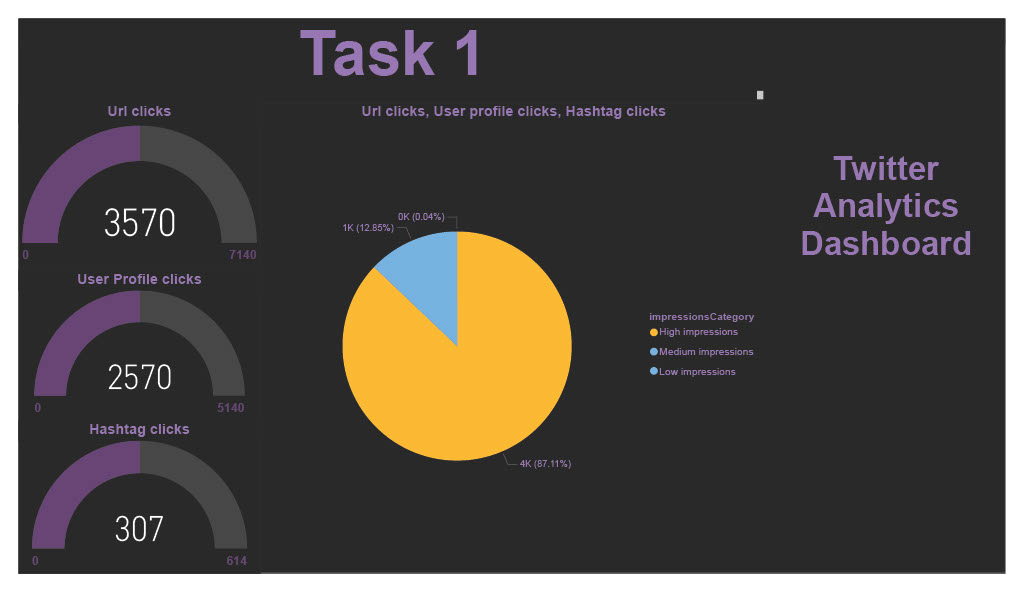

Layout of this report page (visuals, bound fields, positions):
{"tool":"powerbi","page":{"name":"Task 1","canvas":[1280,720],"ordinal":0},"visuals":[{"type":"gauge","title":"Url clicks","fields":{"Y":["Sum(SocialMedia (1).url clicks)"]},"box":[0,109.6,313.7,217.3],"z":0},{"type":"gauge","title":"Hashtag clicks","fields":{"Y":["Sum(SocialMedia (1).hashtag clicks)"]},"box":[0,521.6,313.7,198.4],"z":1000},{"type":"gauge","title":"User Profile clicks","fields":{"Y":["Sum(SocialMedia (1).user profile clicks)"]},"box":[0,326.9,313.7,194.6],"z":2000},{"type":"actionButton","box":[0,0,100,40],"z":4000},{"type":"textbox","box":[971.3,0,308,718.1],"z":5000},{"type":"pieChart","title":"Url clicks, User profile clicks, Hashtag clicks","fields":{"Y":["Sum(SocialMedia (1).Total Clicks)"],"Category":["SocialMedia (1).impressionsCategory Hierarchy.impressionsCategory","SocialMedia (1).impressionsCategory Hierarchy.url clicks","SocialMedia (1).impressionsCategory Hierarchy.user profile clicks","SocialMedia (1).impressionsCategory Hierarchy.hashtag clicks"]},"box":[313.7,109.6,657.6,608.5],"z":6000},{"type":"textbox","title":"Task 1","box":[0,0,971.3,109.6],"z":6001}]}

Visuals, with their boxes in screenshot pixels (x1, y1, x2, y2), scaled from the page's 1280x720 canvas onto the 1024x592 screenshot:
"Url clicks" gauge: [0,90,251,269]
"Hashtag clicks" gauge: [0,429,251,591]
"User Profile clicks" gauge: [0,269,251,429]
actionButton: [0,0,80,33]
textbox: [777,0,1023,590]
"Url clicks, User profile clicks, Hashtag clicks" pieChart: [251,90,777,590]
"Task 1" textbox: [0,0,777,90]
